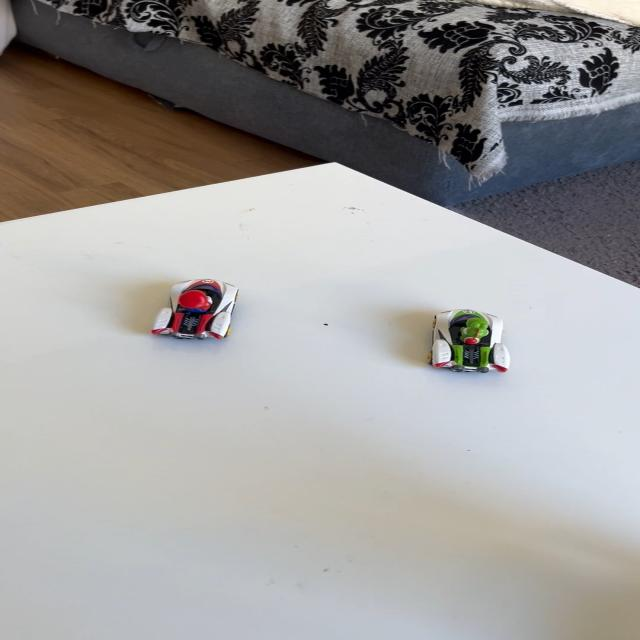mario: (129, 274, 254, 350)
yoshi: (411, 297, 527, 380)
